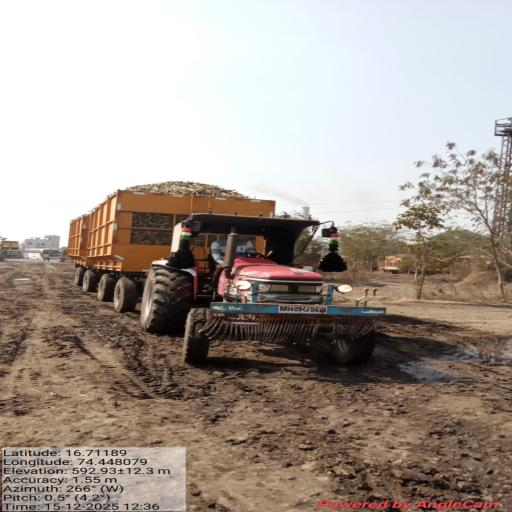number_plate: (273, 301, 329, 317)
